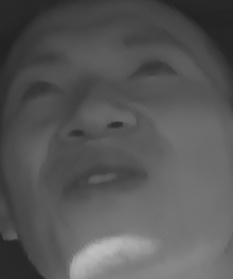eye: (125, 52, 179, 85), (17, 80, 67, 102)
mouth: (52, 153, 152, 201)
